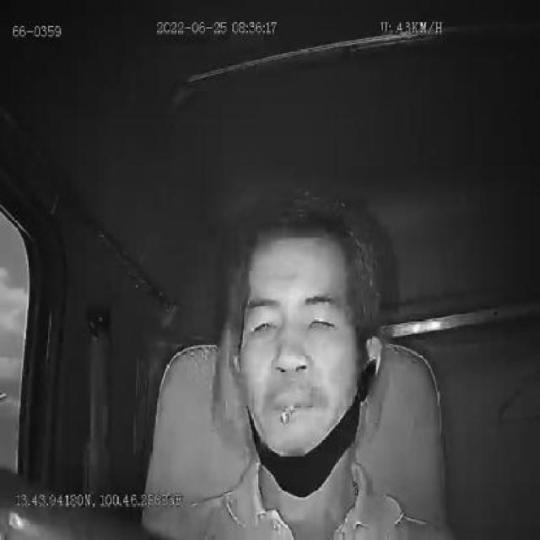smoking: (279, 403, 295, 426)
